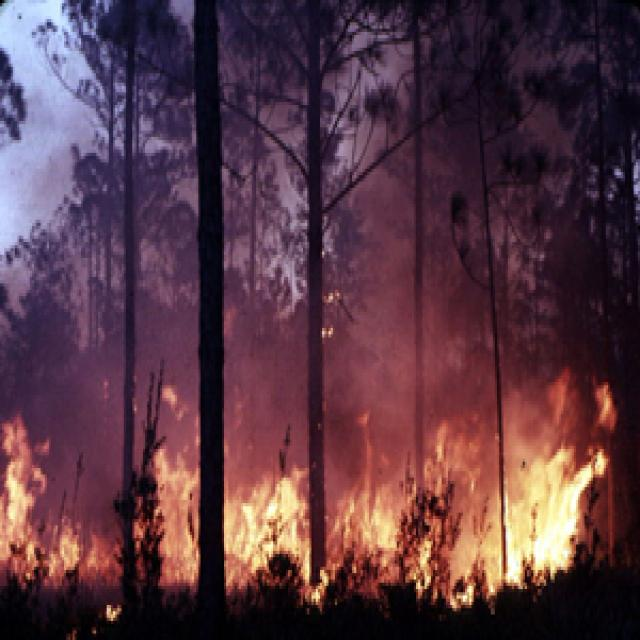Fire: (222, 373, 612, 608), (0, 427, 196, 599)
Smoke: (198, 0, 640, 519), (0, 344, 124, 484)
